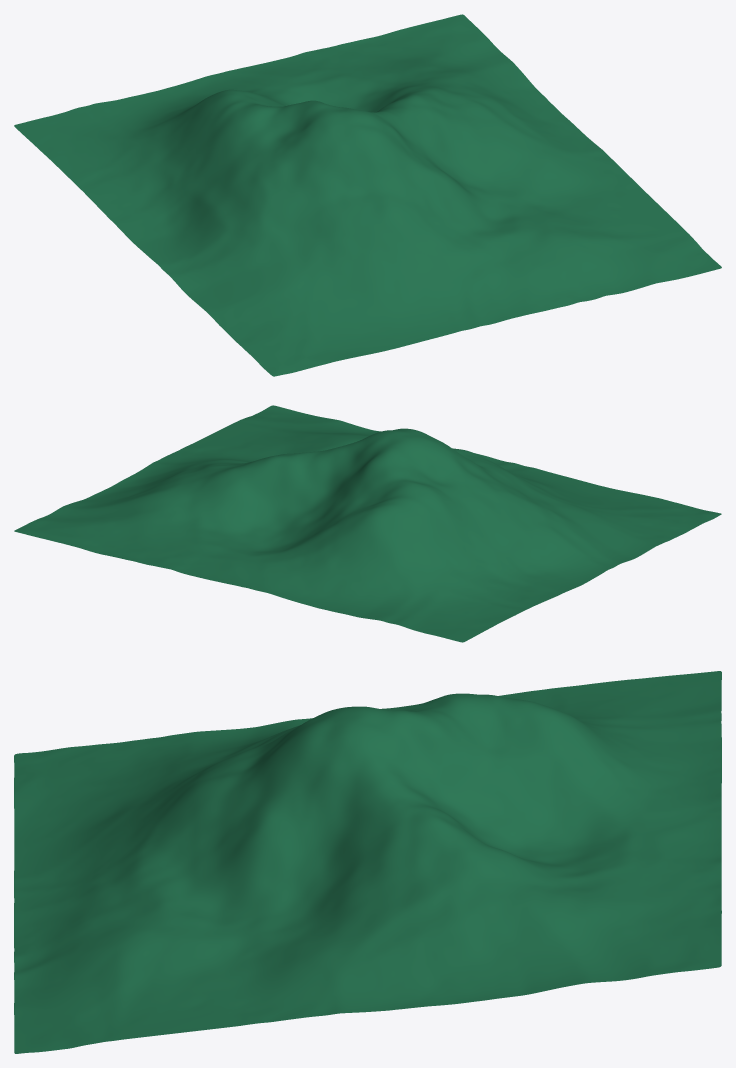
The model's file is terrain.glb.
The picture shows the model from 3 angles, top to bottom: view 1: azimuth 30°, elevation 25°; view 2: azimuth 150°, elevation 25°; view 3: azimuth 270°, elevation 25°; orthographic projection. The views are drawn at different scales.
Visible parts, largest first — view 1: Landscape; view 2: Landscape; view 3: Landscape.
Part boxes in pixels (x1=…): Landscape: x1=14, y1=14, x2=721, y2=376; Landscape: x1=14, y1=405, x2=721, y2=642; Landscape: x1=14, y1=671, x2=721, y2=1053.
Bounding box in the file's own units: 1 × 0.2646 × 1.
